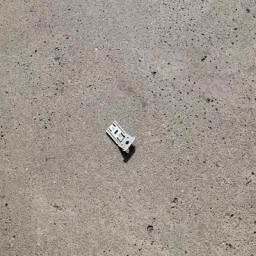FOD: (102, 117, 143, 165)
